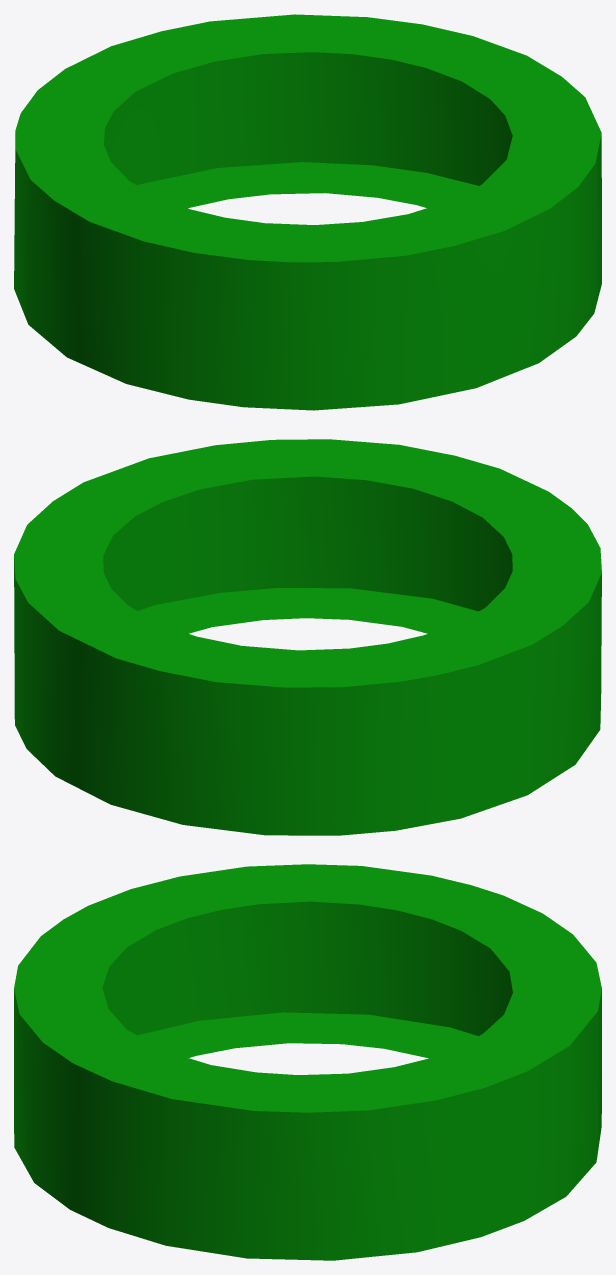
Rendered from M_PipeHole_Reduced.fbx.
The picture shows the model from 3 angles, top to bottom: view 1: azimuth 30°, elevation 25°; view 2: azimuth 150°, elevation 25°; view 3: azimuth 270°, elevation 25°; orthographic projection.
Visible parts, largest first — view 1: Cylinder; view 2: Cylinder; view 3: Cylinder.
Part boxes in pixels (x1,y1,x2,y2): Cylinder: (14,14,601,410); Cylinder: (14,439,601,835); Cylinder: (14,864,601,1260).
Bounding box in the file's own units: 266 × 266 × 73.93.
